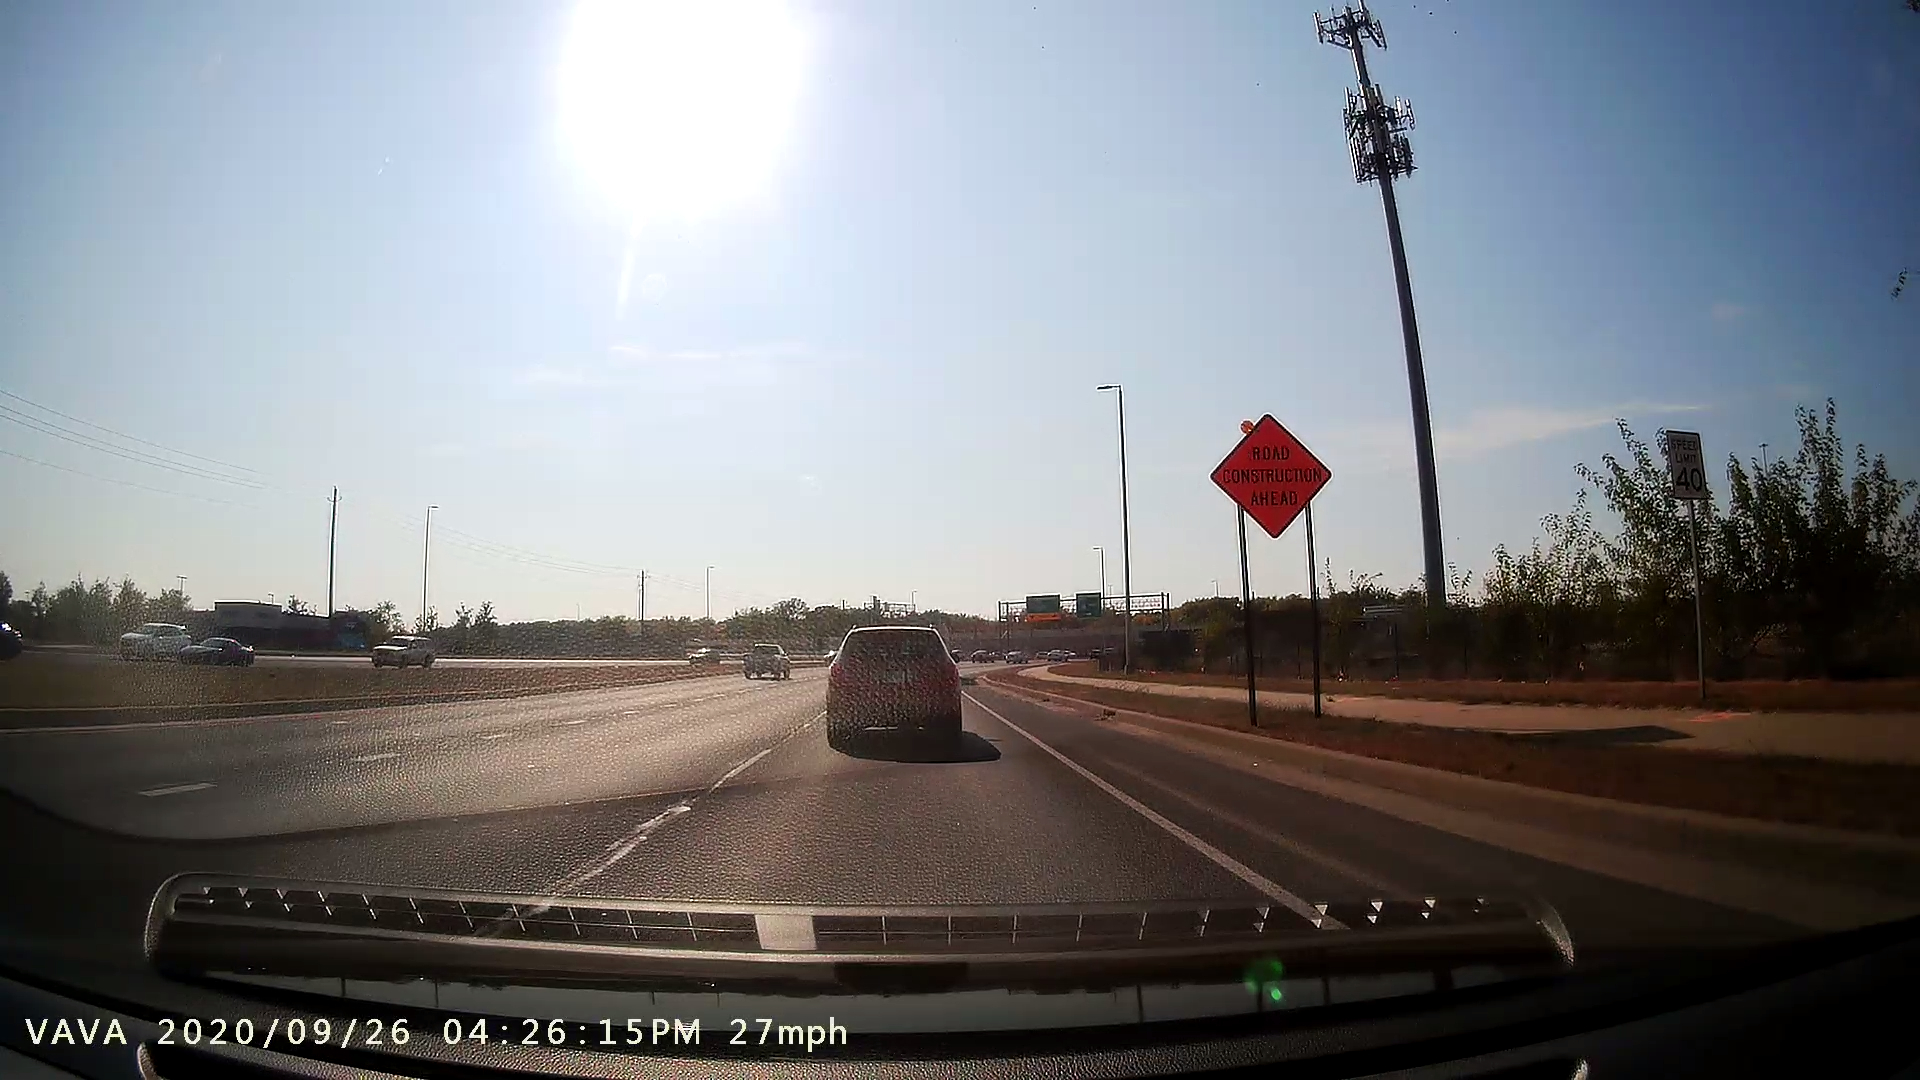ttcs_end_const: (1199, 394, 1346, 717)
